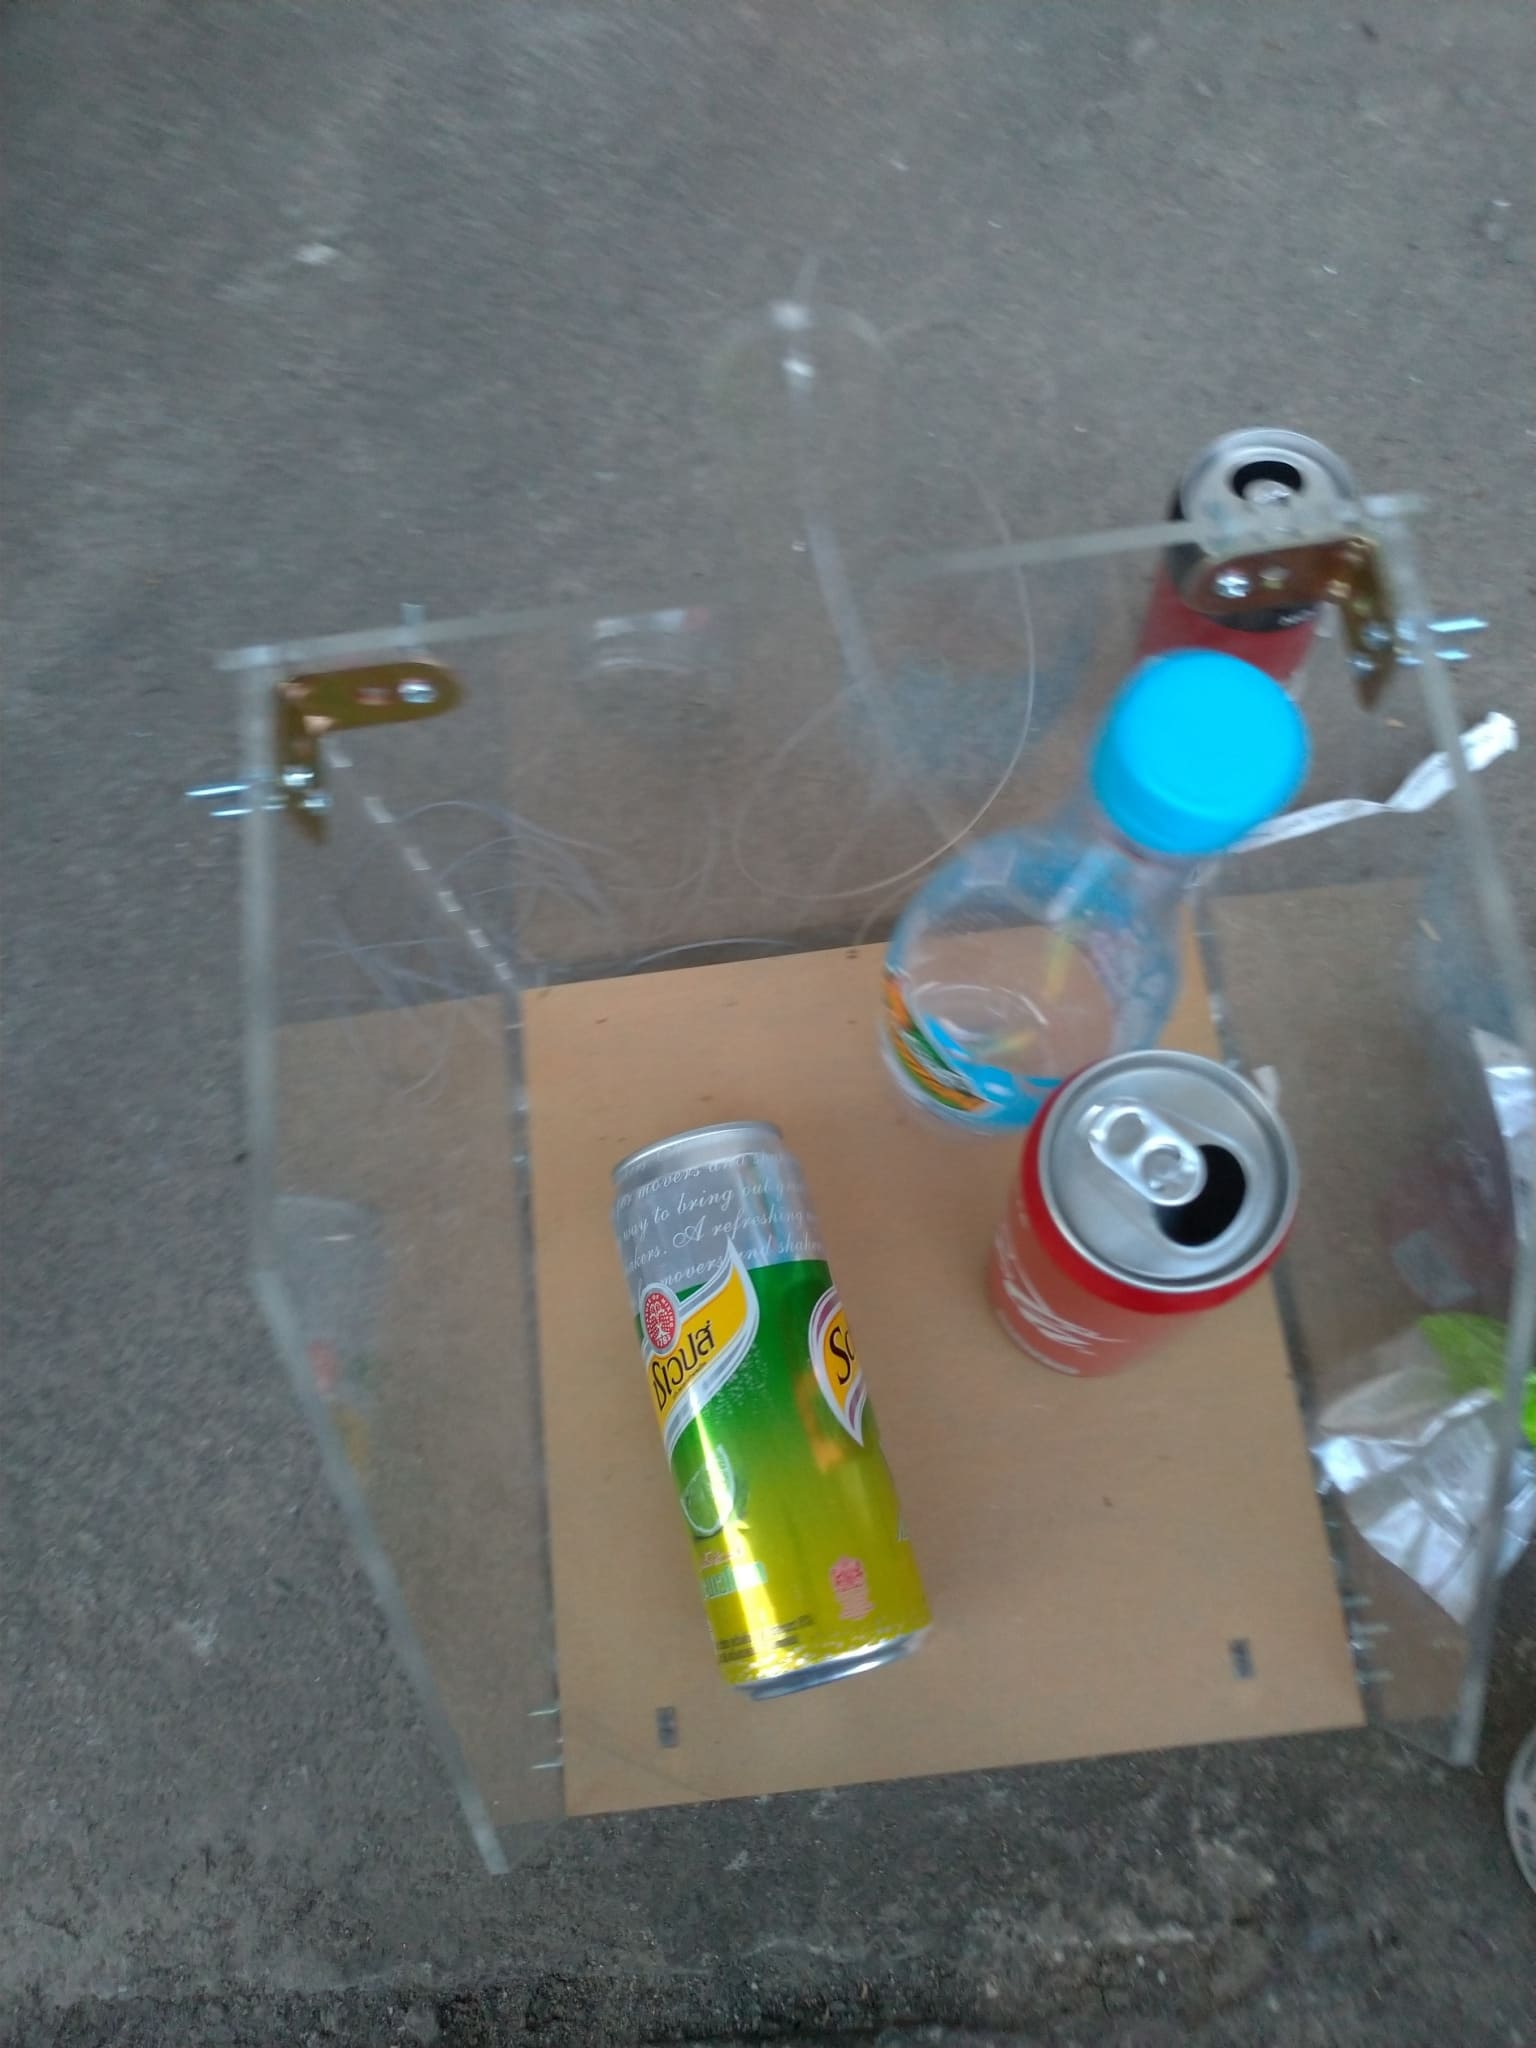AlCan: (616, 1121, 925, 1701), (987, 1045, 1304, 1380), (1133, 423, 1347, 672)
Others: (1317, 1042, 1536, 1637)
PlasticBottle: (886, 645, 1307, 1101)
